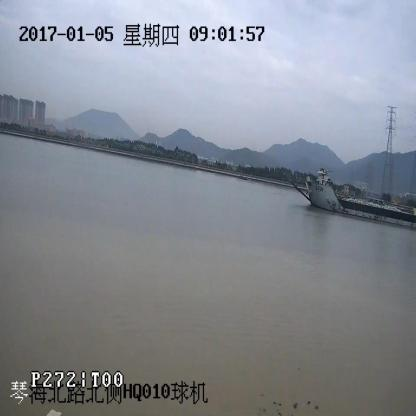Bulk Carrier: (294, 172, 416, 230)
